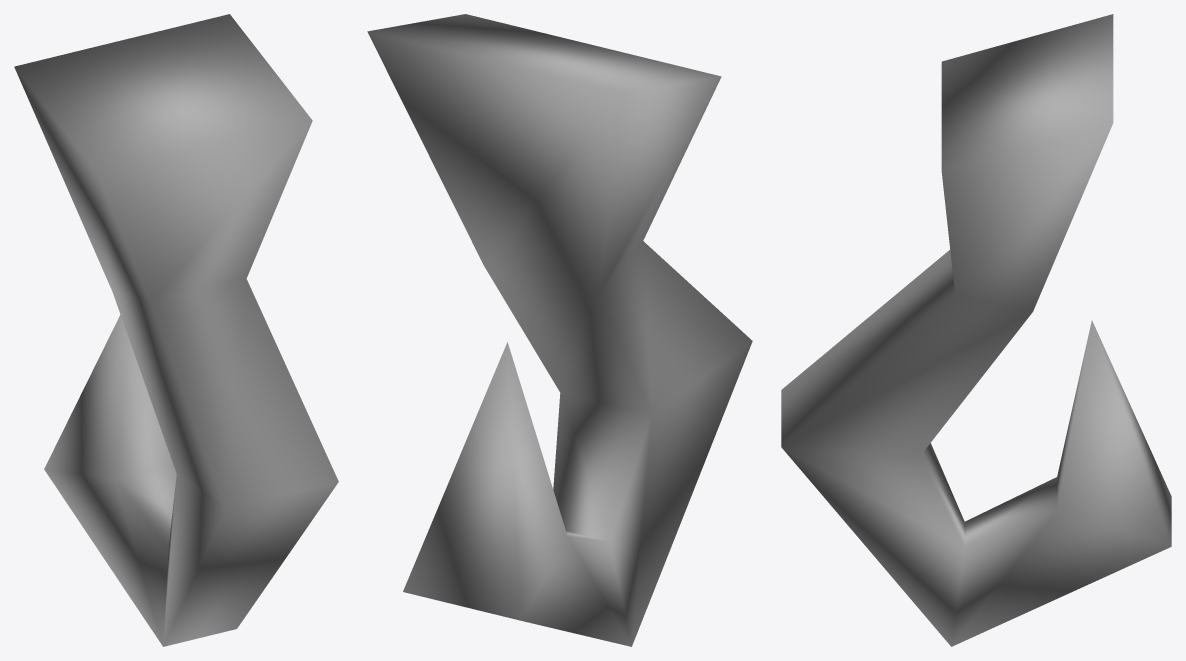
File: Hook.fbx
3 renders of one model, left to right at view 1: azimuth 30°, elevation 25°; view 2: azimuth 150°, elevation 25°; view 3: azimuth 270°, elevation 25°, orthographic. The views are drawn at different scales.
Visible parts, largest first — view 1: hook_model; view 2: hook_model; view 3: hook_model.
Part boxes in pixels (x1,y1,x2,y2): hook_model: (14, 14, 338, 646); hook_model: (367, 14, 752, 646); hook_model: (781, 14, 1171, 646).
Bounding box in the file's own units: 9.55 × 22.86 × 14.45.
